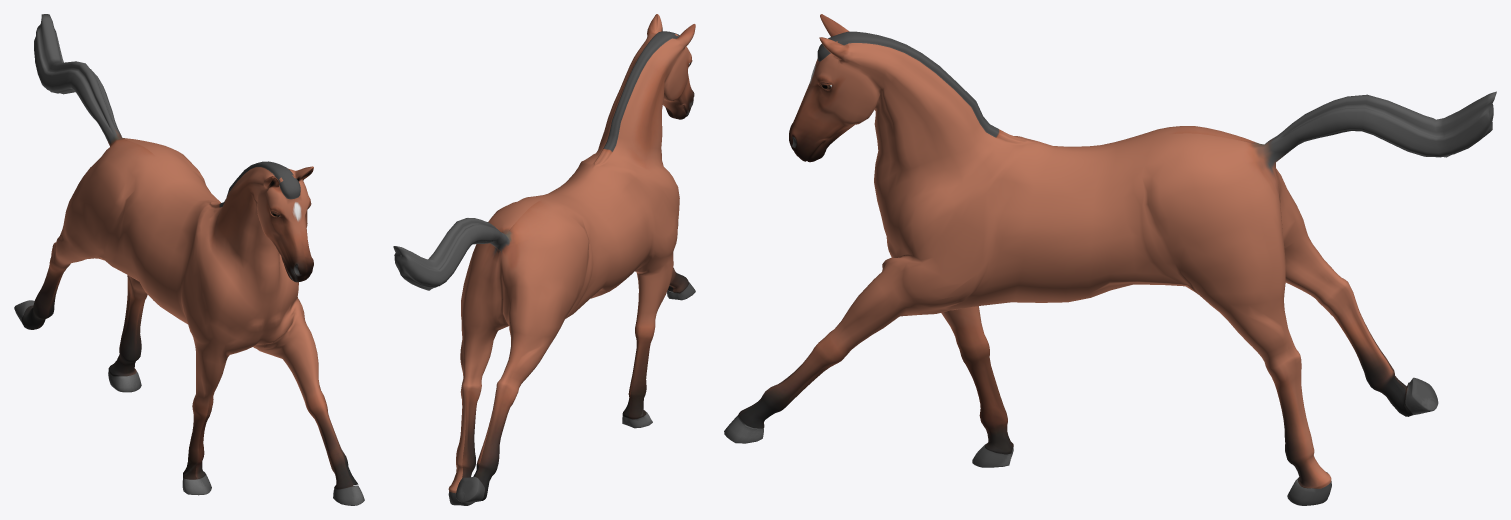
Rendered from horse_obj_12.obj.
The picture shows the model from 3 angles, left to right: view 1: azimuth 30°, elevation 25°; view 2: azimuth 150°, elevation 25°; view 3: azimuth 270°, elevation 25°; orthographic projection. The views are drawn at different scales.
Parts seen in each view (by area): view 1: Figure_1; view 2: Figure_1; view 3: Figure_1.
Part boxes in pixels (x1,y1,x2,y2): Figure_1: [14, 14, 364, 505]; Figure_1: [393, 14, 695, 505]; Figure_1: [724, 14, 1496, 505].
Size of the model in its own units: 0.2421 by 0.8218 by 1.26.
7 materials, 7 textured.
